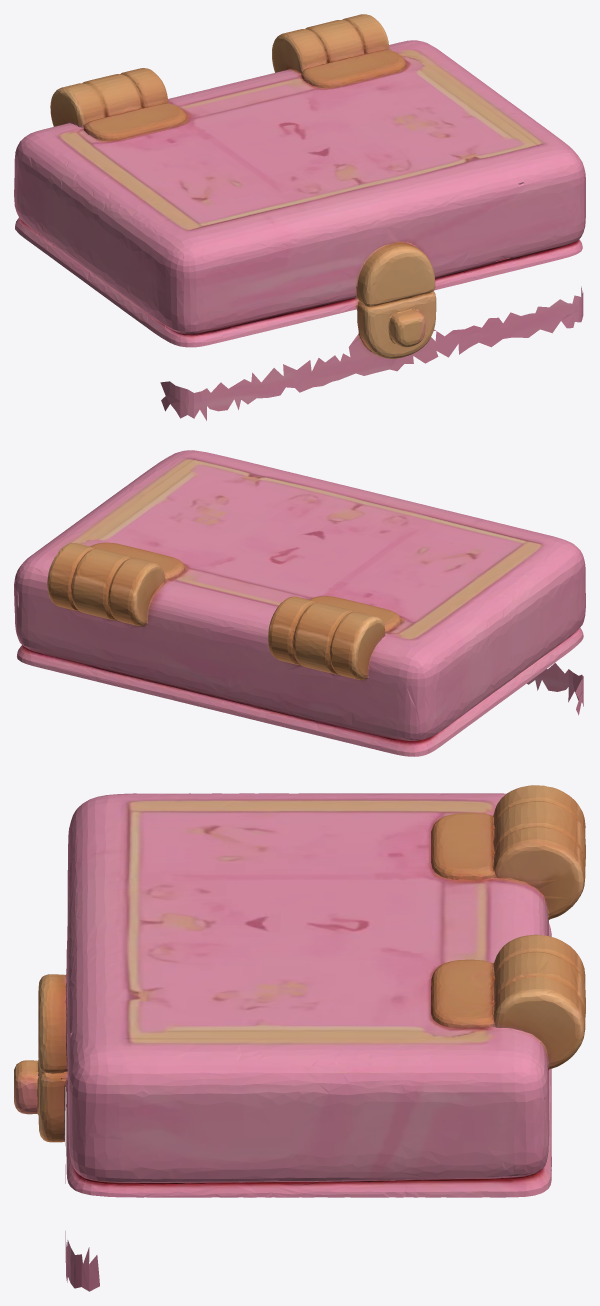
Rendered from lid.glb.
The picture shows the model from 3 angles, top to bottom: view 1: azimuth 30°, elevation 25°; view 2: azimuth 150°, elevation 25°; view 3: azimuth 270°, elevation 25°; orthographic projection. The views are drawn at different scales.
Visible parts, largest first — view 1: source_surface_0; view 2: source_surface_0; view 3: source_surface_0.
Part boxes in pixels (x1=…): source_surface_0: x1=14, y1=14, x2=585, y2=420; source_surface_0: x1=14, y1=450, x2=585, y2=756; source_surface_0: x1=14, y1=785, x2=585, y2=1291.
Size of the model in its own units: 0.1041 by 0.0474 by 0.0885.
Materials: 1 (1 with a texture image).
